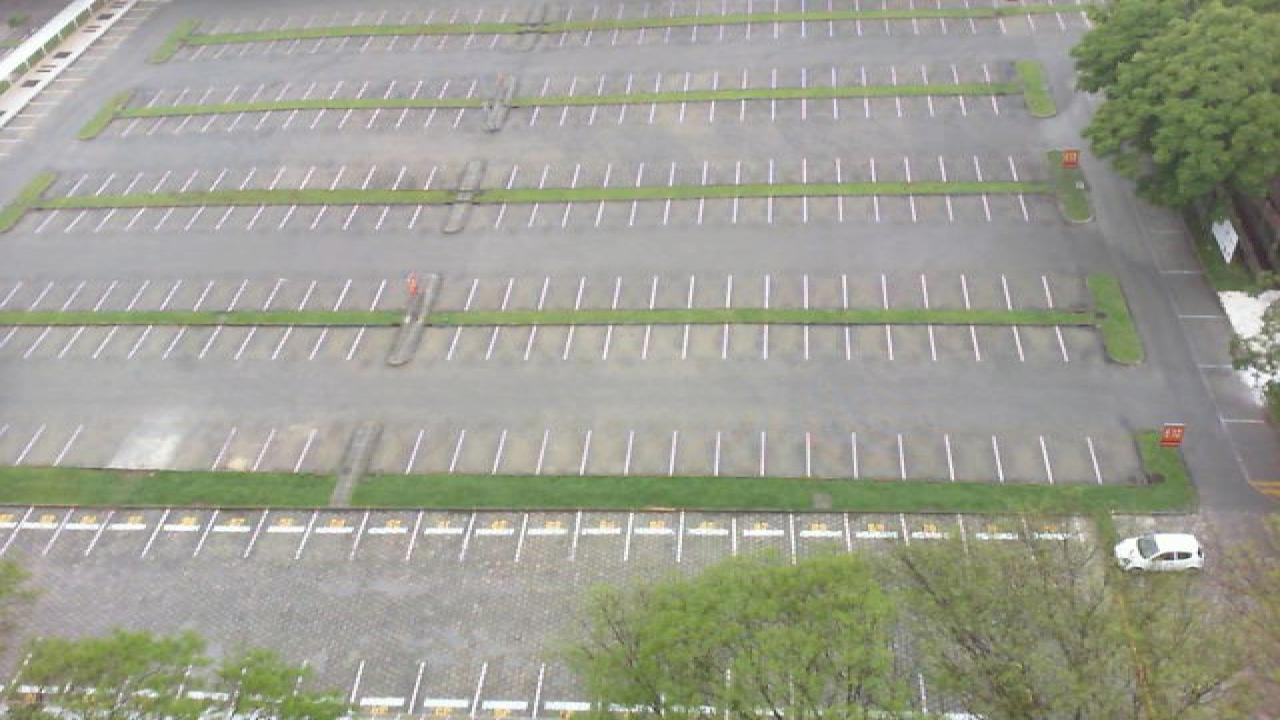Car: (1114, 533, 1204, 573)
